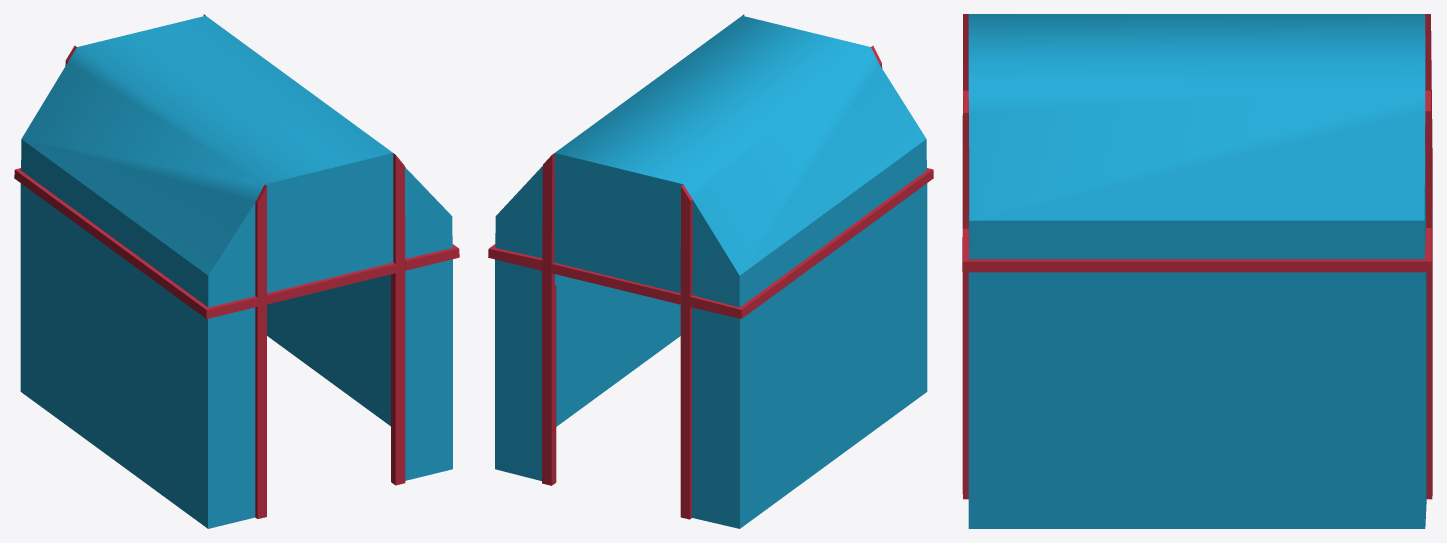
Rendered from mesh_grange.fbx.
3 views of the same model, side by side, from view 1: azimuth 30°, elevation 25°; view 2: azimuth 150°, elevation 25°; view 3: azimuth 270°, elevation 25° (orthographic). The views are drawn at different scales.
Parts seen in each view (by area): view 1: Grange; view 2: Grange; view 3: Grange.
Boxes of the visible parts, box(x1,y1,x2,y2) form: Grange: box(14, 14, 459, 528); Grange: box(488, 14, 933, 528); Grange: box(962, 14, 1432, 528).
Bounding box in the file's own units: 317 × 396 × 419.
